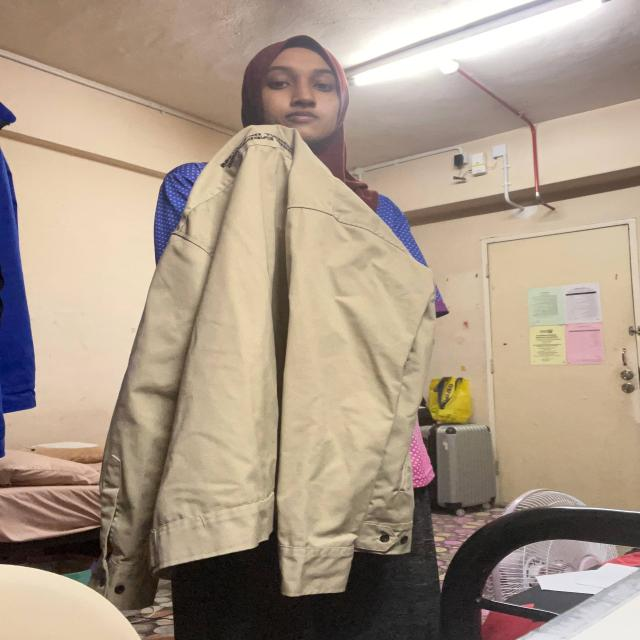person_without_labcoat: (96, 35, 439, 640)
